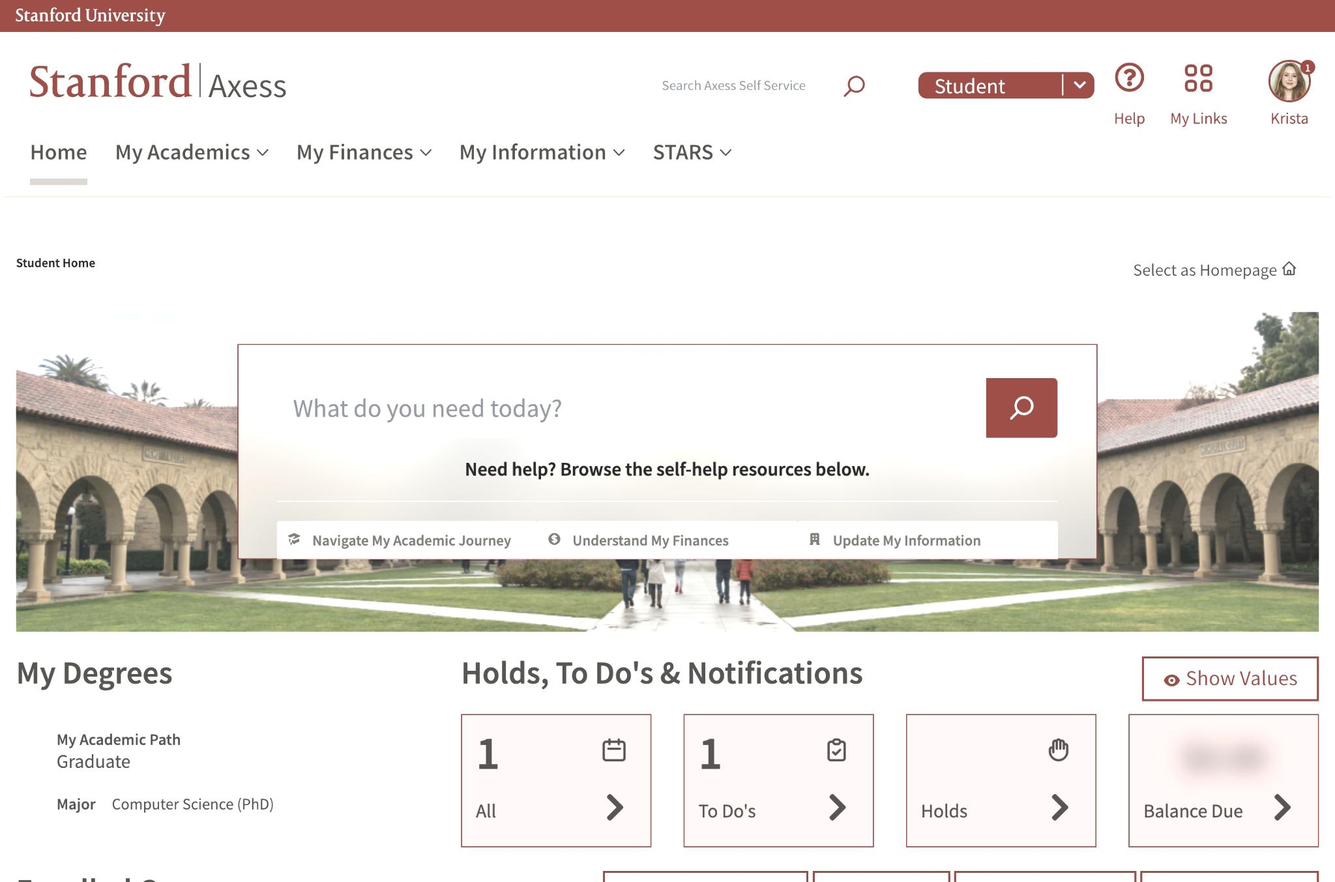webelement: (15, 301, 1317, 882), (444, 713, 1334, 846), (15, 136, 1317, 185), (276, 521, 1057, 558), (461, 714, 650, 845), (684, 714, 873, 845), (906, 714, 1095, 845), (1129, 714, 1318, 845), (15, 246, 667, 280), (276, 456, 1057, 480), (642, 62, 878, 106), (277, 521, 537, 559), (537, 521, 797, 559), (796, 521, 1056, 559), (444, 136, 637, 185), (100, 136, 282, 185), (29, 62, 286, 96), (282, 136, 445, 185), (56, 749, 388, 773), (1141, 656, 1318, 701), (1245, 59, 1318, 131), (638, 136, 745, 185), (918, 72, 1094, 98), (985, 377, 1056, 436), (15, 136, 100, 185), (29, 74, 191, 96), (111, 793, 273, 813), (1185, 664, 1296, 690), (1246, 101, 1330, 132), (56, 729, 180, 749), (1143, 799, 1242, 823), (602, 871, 807, 882), (15, 8, 165, 23), (1169, 99, 1226, 135), (953, 871, 1135, 882), (1138, 871, 1317, 882), (207, 72, 286, 96), (934, 72, 1005, 98), (811, 871, 948, 882), (15, 254, 94, 271), (1113, 99, 1144, 135), (55, 793, 95, 813), (1008, 396, 1032, 419), (844, 75, 864, 96), (1059, 72, 1091, 84), (1299, 59, 1313, 73), (166, 7, 167, 8)
